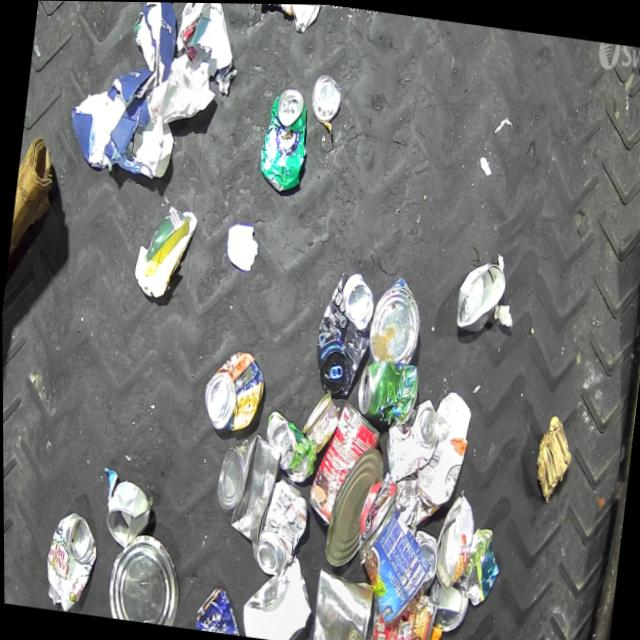can: (346, 495, 435, 629), (304, 397, 384, 528), (309, 265, 378, 396), (209, 428, 283, 545), (321, 441, 385, 569), (102, 527, 184, 626), (246, 473, 311, 578), (38, 507, 101, 614), (254, 81, 313, 193), (198, 345, 267, 434), (379, 391, 440, 485), (365, 271, 425, 363), (307, 564, 375, 640), (429, 488, 476, 590), (352, 353, 417, 425), (258, 408, 319, 483), (451, 251, 508, 330), (363, 586, 437, 640), (100, 479, 153, 551), (192, 581, 252, 635), (297, 388, 341, 453), (424, 574, 469, 632), (407, 526, 438, 591), (308, 71, 343, 122)
